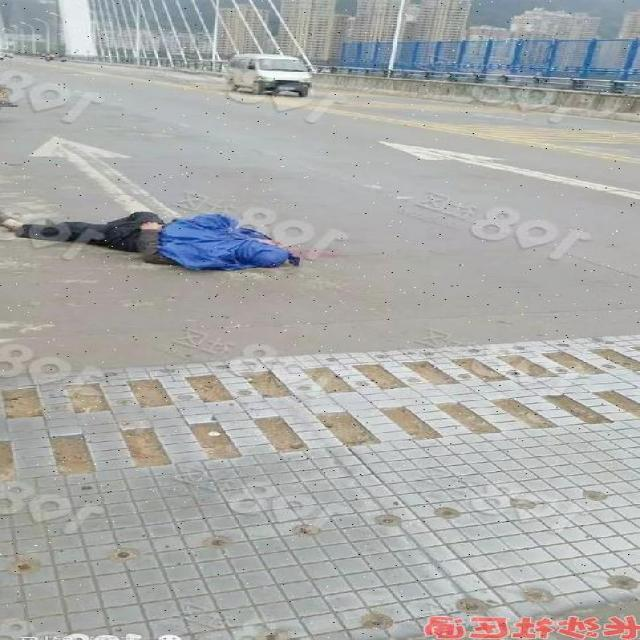fall: (1, 200, 322, 268)
